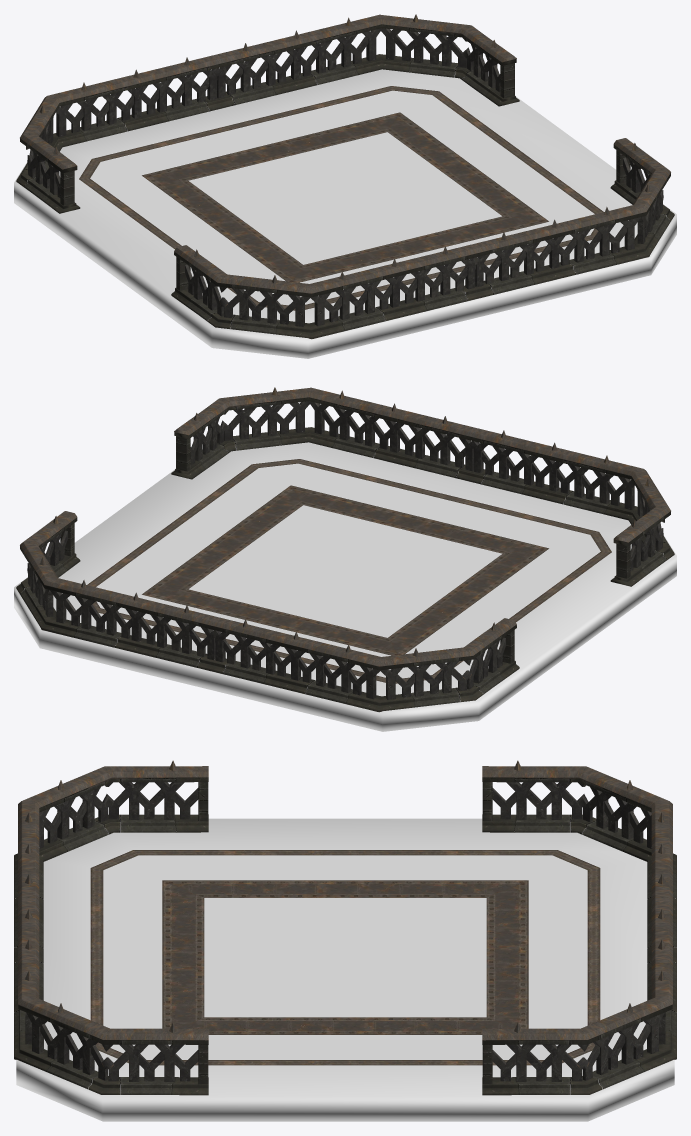
3 views of the same model, one above another, from view 1: azimuth 30°, elevation 25°; view 2: azimuth 150°, elevation 25°; view 3: azimuth 270°, elevation 25° (orthographic). The views are drawn at different scales.
Visible parts, largest first — view 1: SM_DR_Lift_Platform_01_LOD0; view 2: SM_DR_Lift_Platform_01_LOD0; view 3: SM_DR_Lift_Platform_01_LOD0.
Part boxes in pixels (x1,y1,x2,y2): SM_DR_Lift_Platform_01_LOD0: [14, 14, 676, 358]; SM_DR_Lift_Platform_01_LOD0: [14, 387, 676, 731]; SM_DR_Lift_Platform_01_LOD0: [14, 760, 676, 1121].
Bounding box in the file's own units: 12 × 1.83 × 12.09.
4 materials, 3 textured.
